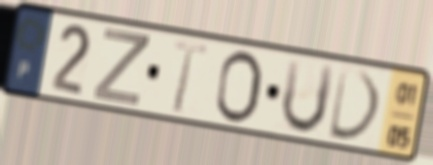2: (49, 22, 93, 99)
D: (325, 64, 385, 144)
O: (211, 47, 265, 127)
T: (170, 36, 211, 117)
U: (278, 56, 338, 137)
Z: (90, 25, 152, 109)
